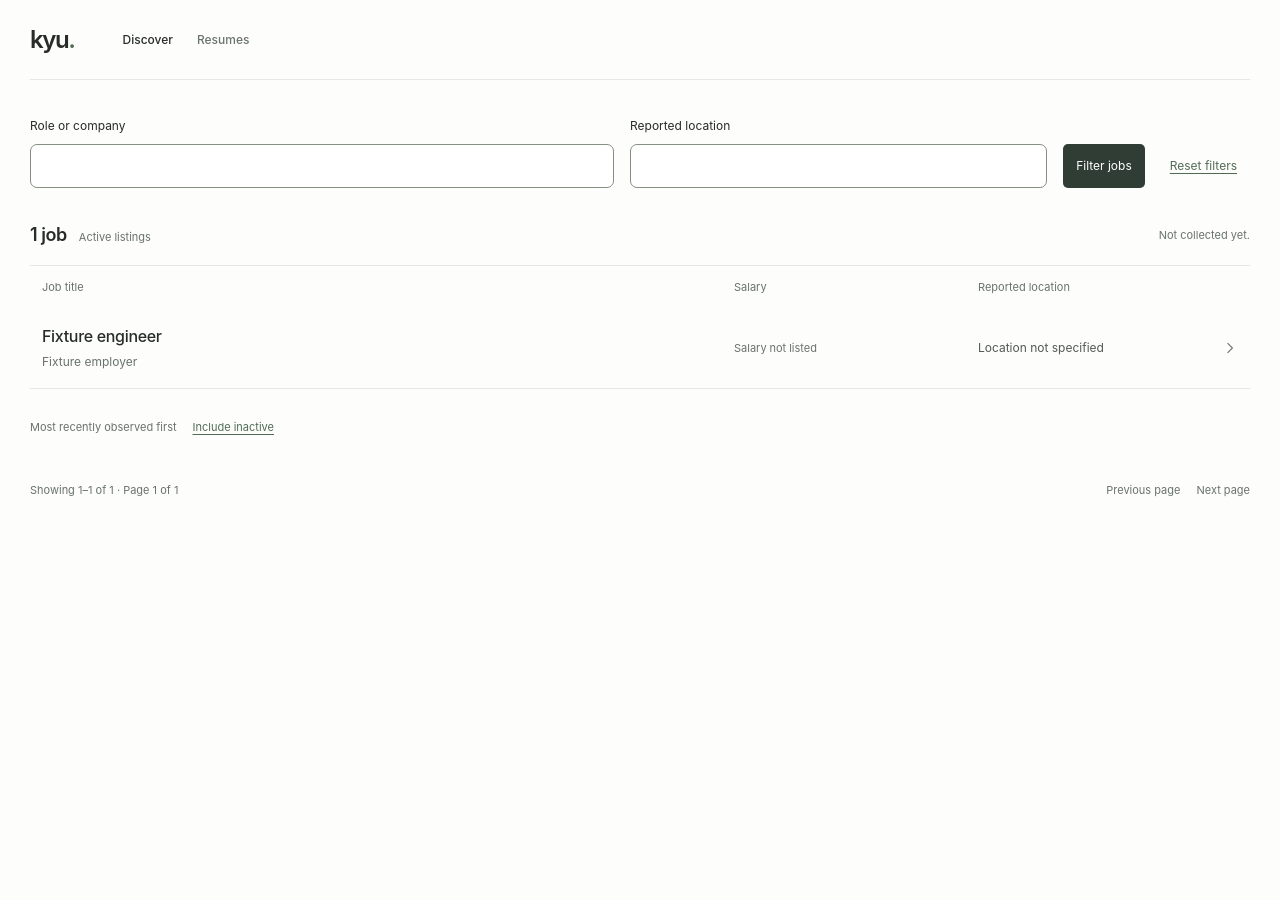
Test: JobCatalog › does not invent missing location, work style, employment, compensation, dates or links
Click the heading that starts with "Fixture engineer".
click(102, 336)  # box x1=42 y1=326 x2=1238 y2=369
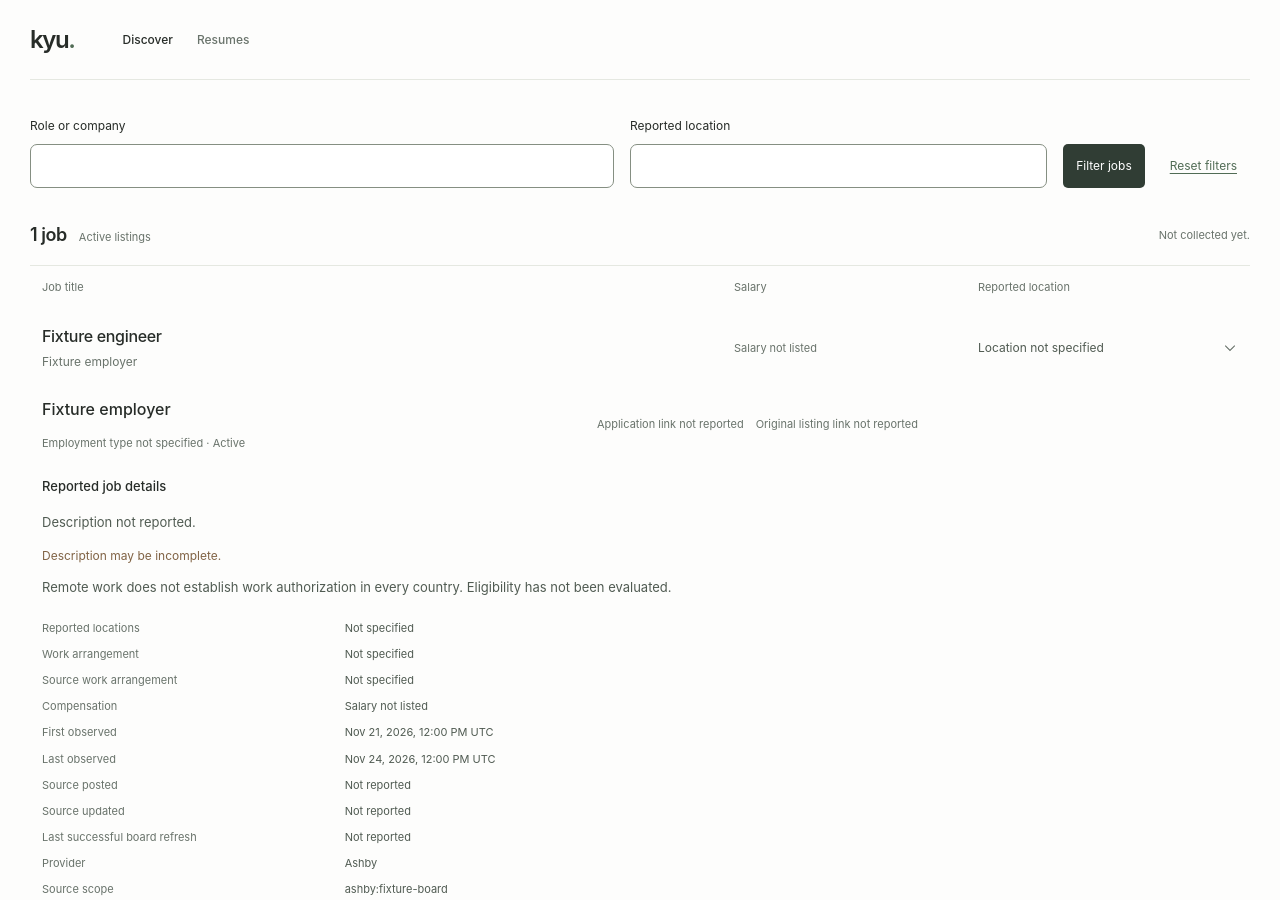
Check: the 3rd text "Not specified" is shown, box x1=345 y1=673 x2=414 y2=687
Check: the text "Description not reported." is shown, box x1=42 y1=514 x2=196 y2=530
Check: the text "Description may be incomplete." is shown, box x1=42 y1=548 x2=221 y2=563
